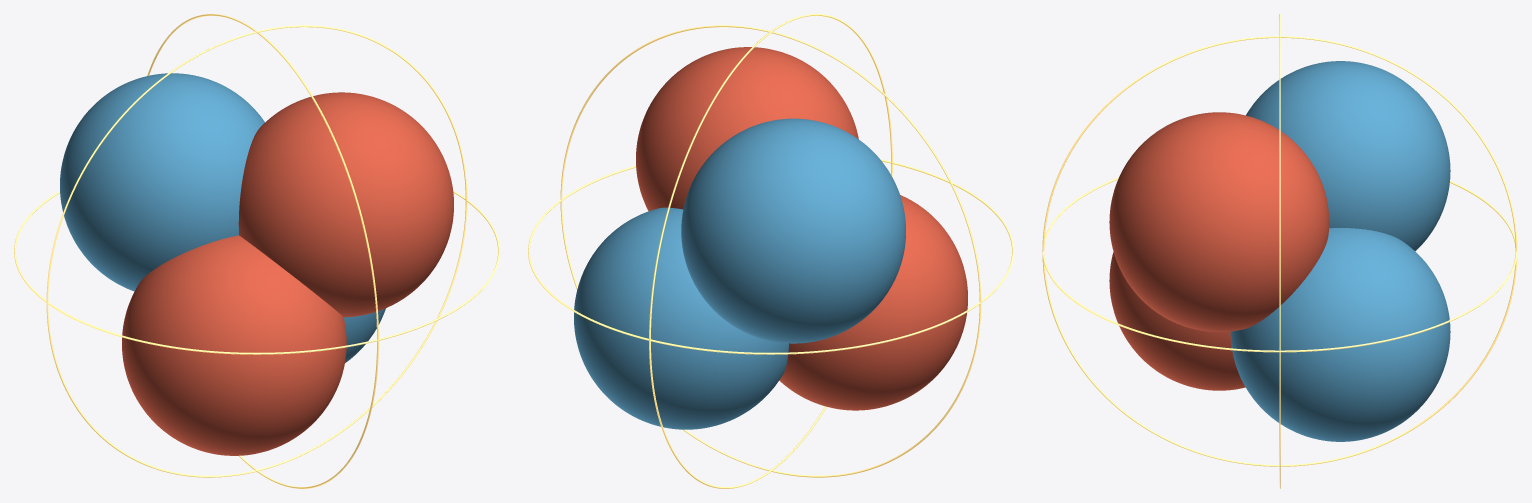
File: micro3d-helium-charge.glb
3 views of the same model, side by side, from view 1: azimuth 30°, elevation 25°; view 2: azimuth 150°, elevation 25°; view 3: azimuth 270°, elevation 25° (orthographic). The views are drawn at different scales.
Visible parts, largest first — view 1: Proton glyph (×2), Neutron glyph (×2), rms guide, not a surface (×3); view 2: Neutron glyph (×2), Proton glyph (×2), rms guide, not a surface (×3); view 3: Neutron glyph (×2), Proton glyph (×2), rms guide, not a surface (×3).
Part boxes in pixels (x1,y1,x2,y2): Proton glyph (×2): (122, 92, 453, 455); Neutron glyph (×2): (60, 73, 385, 362); rms guide, not a surface (×3): (14, 14, 499, 488); Neutron glyph (×2): (574, 118, 905, 429); Proton glyph (×2): (636, 47, 967, 410); rms guide, not a surface (×3): (528, 14, 1013, 488); Neutron glyph (×2): (1230, 61, 1450, 441); Proton glyph (×2): (1109, 112, 1329, 390); rms guide, not a surface (×3): (1042, 14, 1517, 488).
Bounding box in the file's own units: 3.37 × 3.37 × 3.37.
